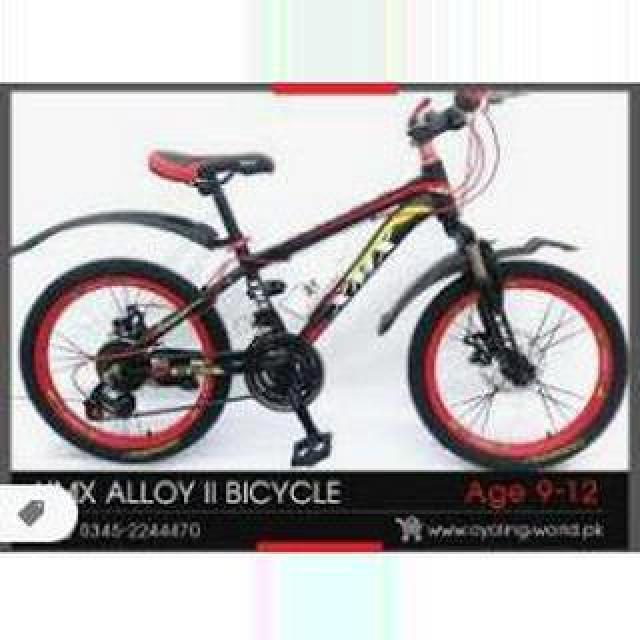Person: (14, 94, 628, 472)
